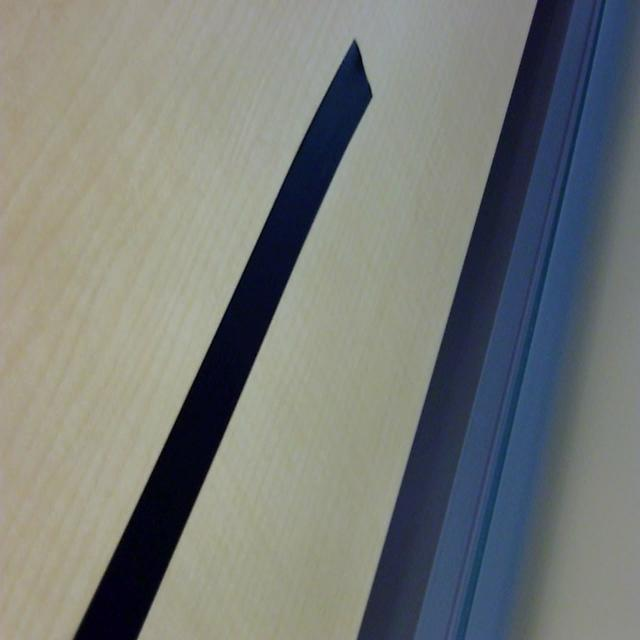tape: (53, 21, 397, 640)
